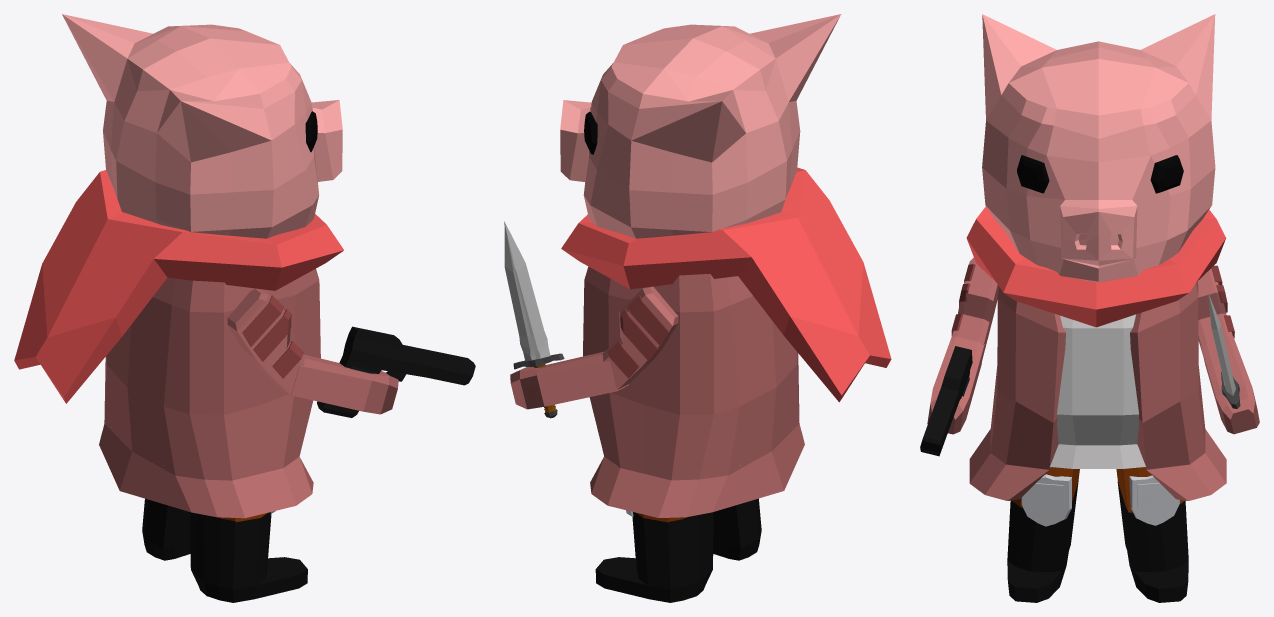
Rendered from ranger.glb.
3 views of the same model, side by side, from view 1: azimuth 30°, elevation 25°; view 2: azimuth 150°, elevation 25°; view 3: azimuth 270°, elevation 25° (orthographic). The views are drawn at different scales.
Visible parts, largest first — view 1: ranger; view 2: ranger; view 3: ranger.
Boxes of the visible parts, bbox=[...] form: ranger: bbox=[14, 14, 475, 602]; ranger: bbox=[504, 14, 891, 602]; ranger: bbox=[920, 14, 1259, 602].
Size of the model in its own units: 3.47 by 4.95 by 2.94.
11 materials, 3 textured.
